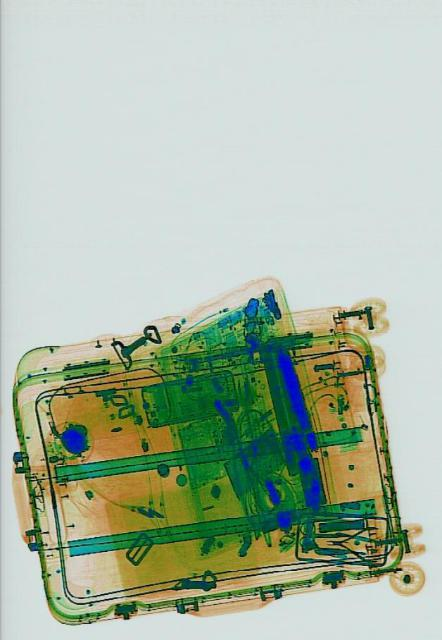Pliers: (327, 525, 376, 559)
